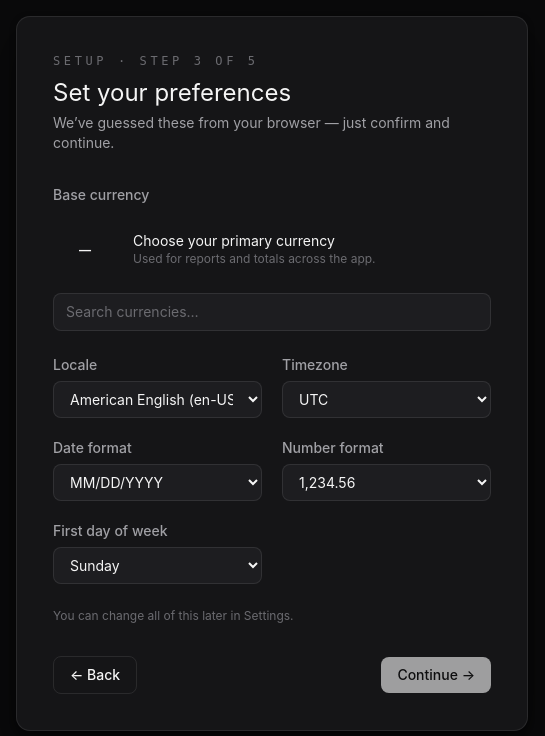
Test: StepPreferences › on 403 INVALID_SETUP_TOKEN, shows an explanatory Callout and stays on the step
Focus the dropdown with placeholder "Search currencies…" at [272, 312], box x1=53 y1=293 x2=491 y2=331
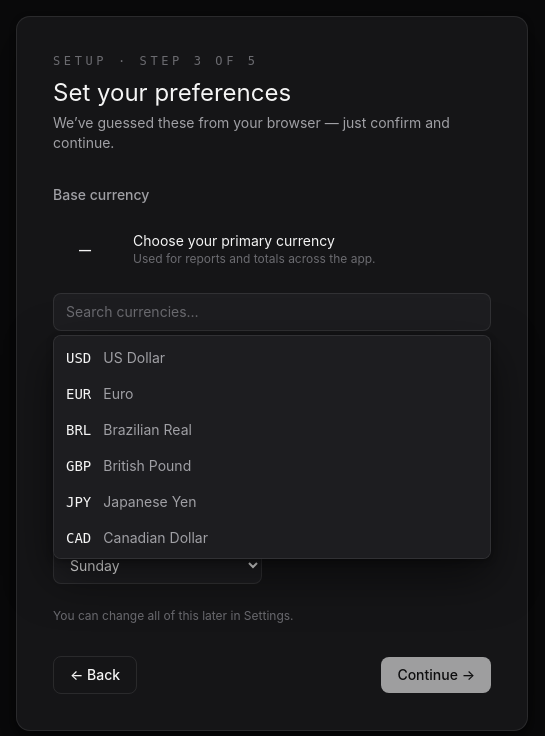
Click the option "USD US Dollar".
click(134, 358)  # box x1=54 y1=340 x2=490 y2=376
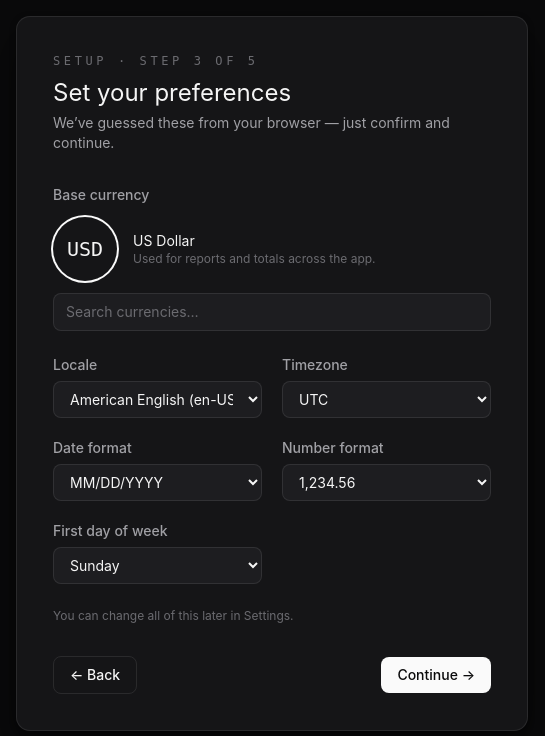
Click the button "Continue →".
click(436, 675)  # box x1=381 y1=657 x2=491 y2=693
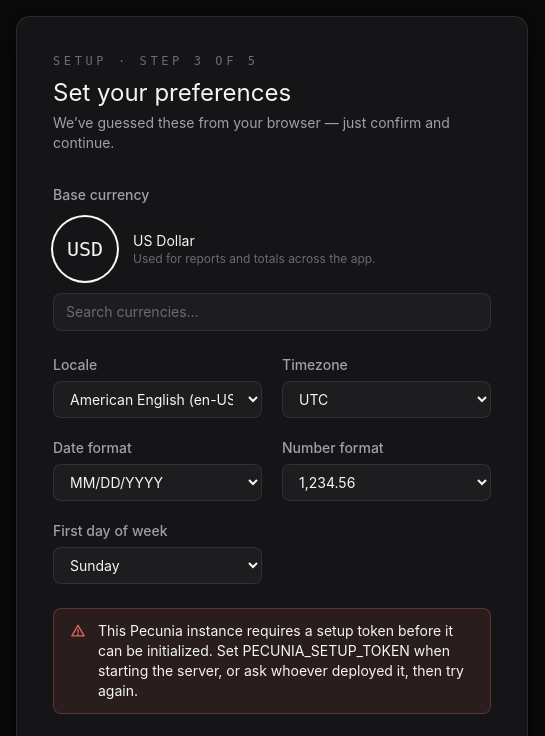
Check: the message shows "setup token", box x1=98 y1=622 x2=464 y2=699
